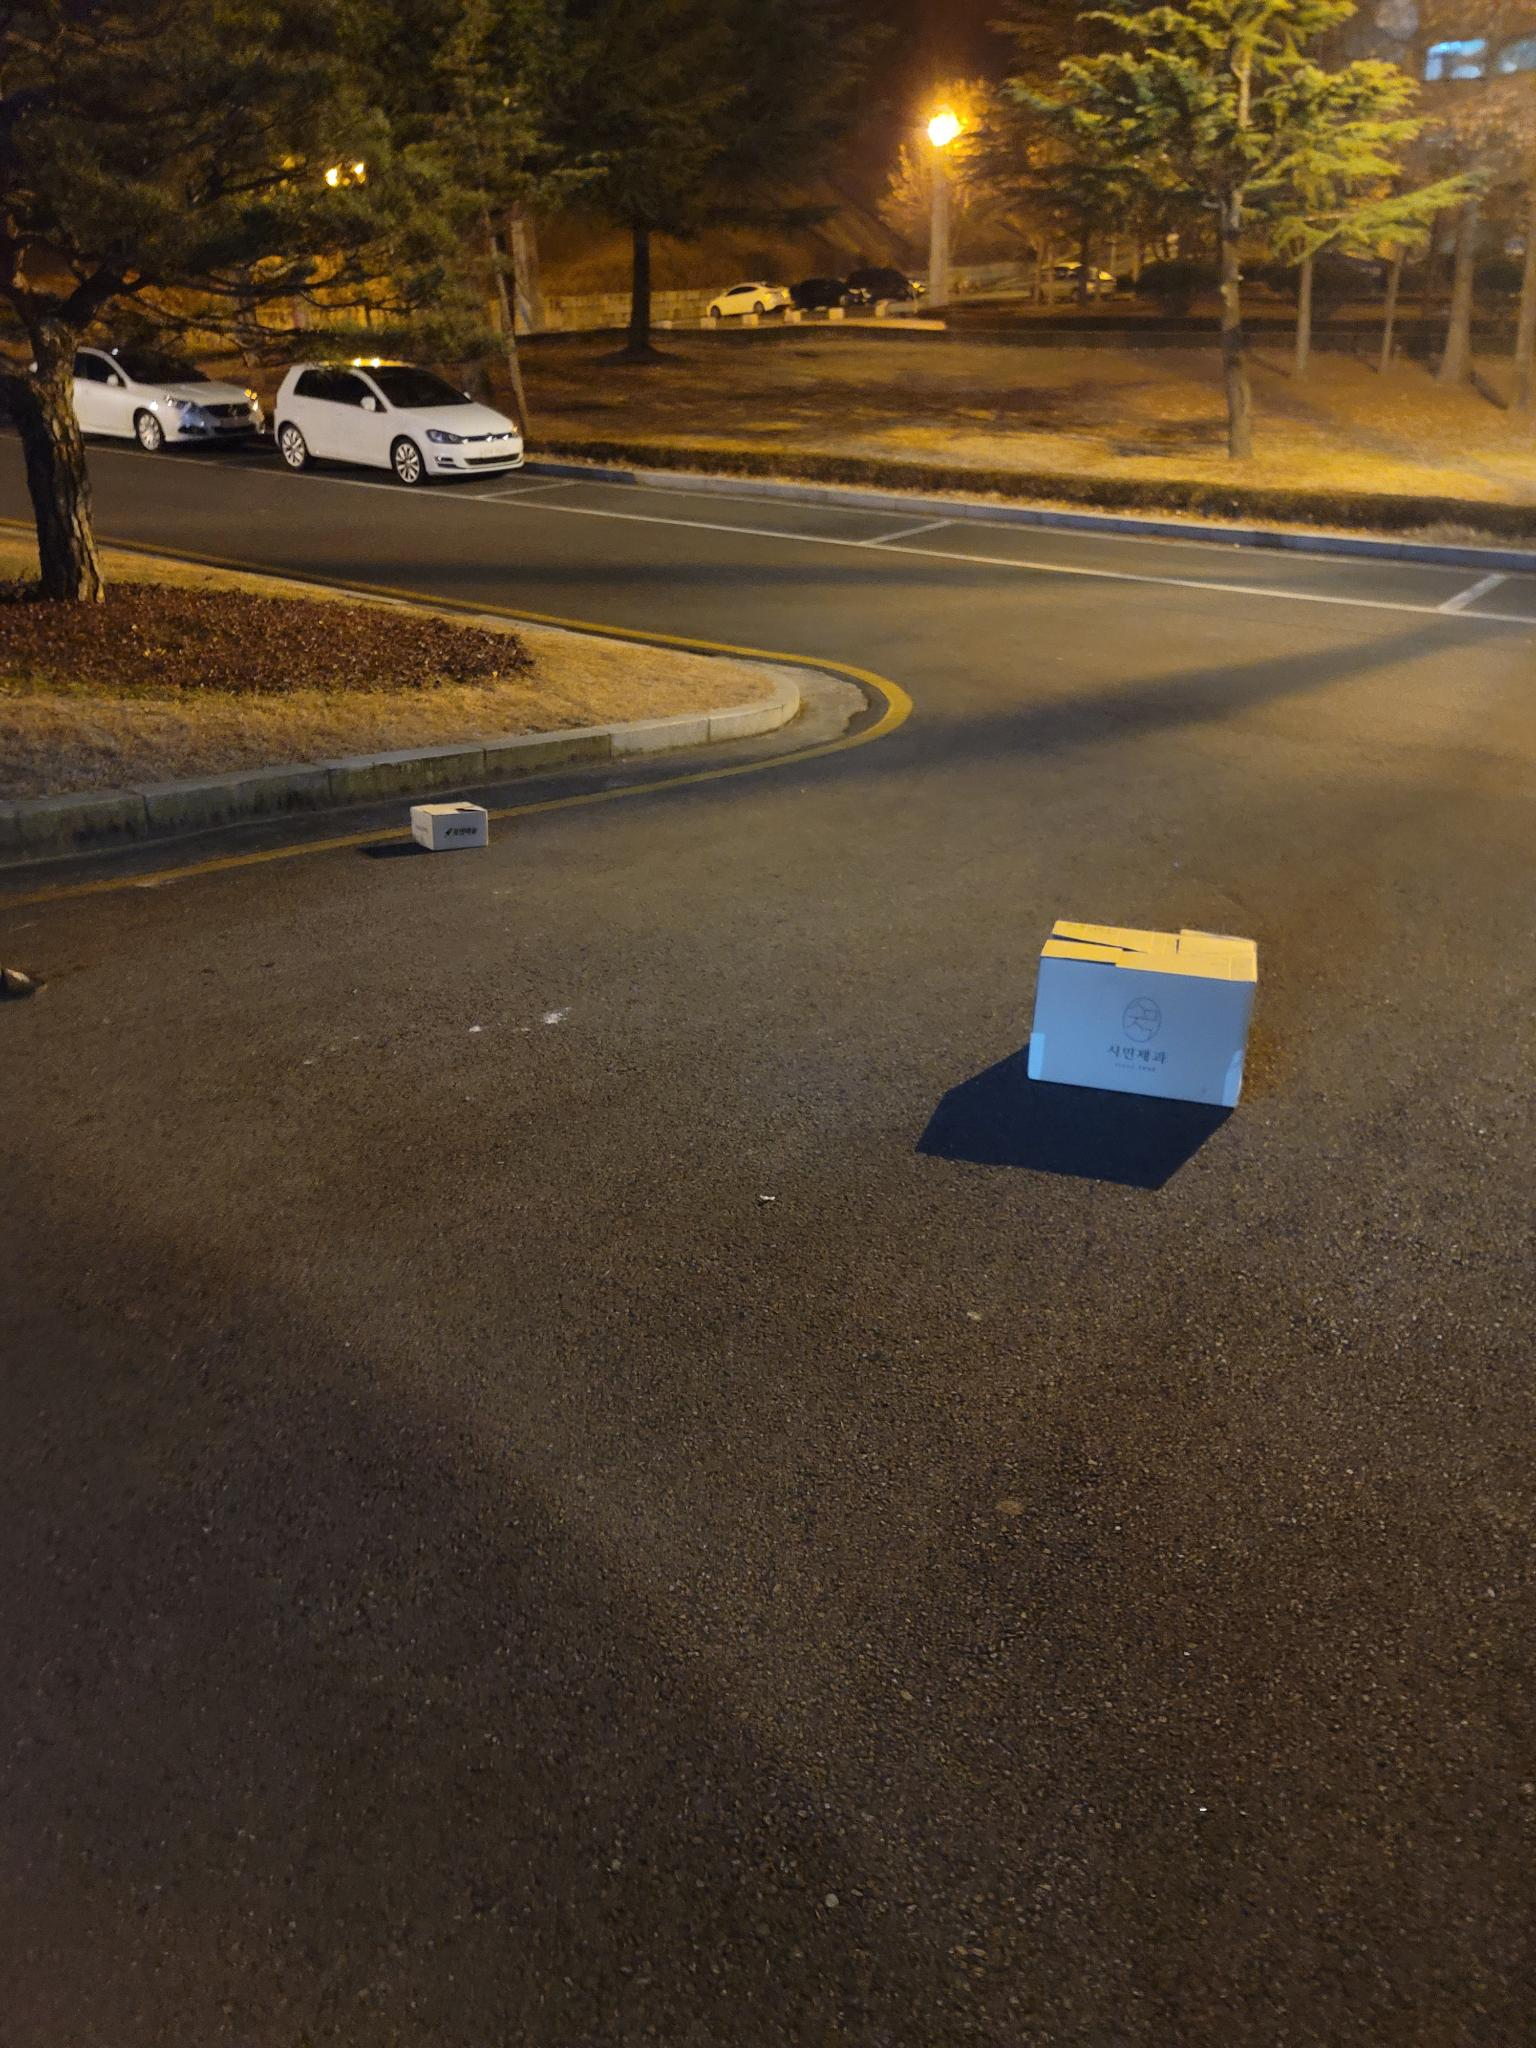Box: (1015, 889, 1283, 1142), (395, 793, 513, 864)
